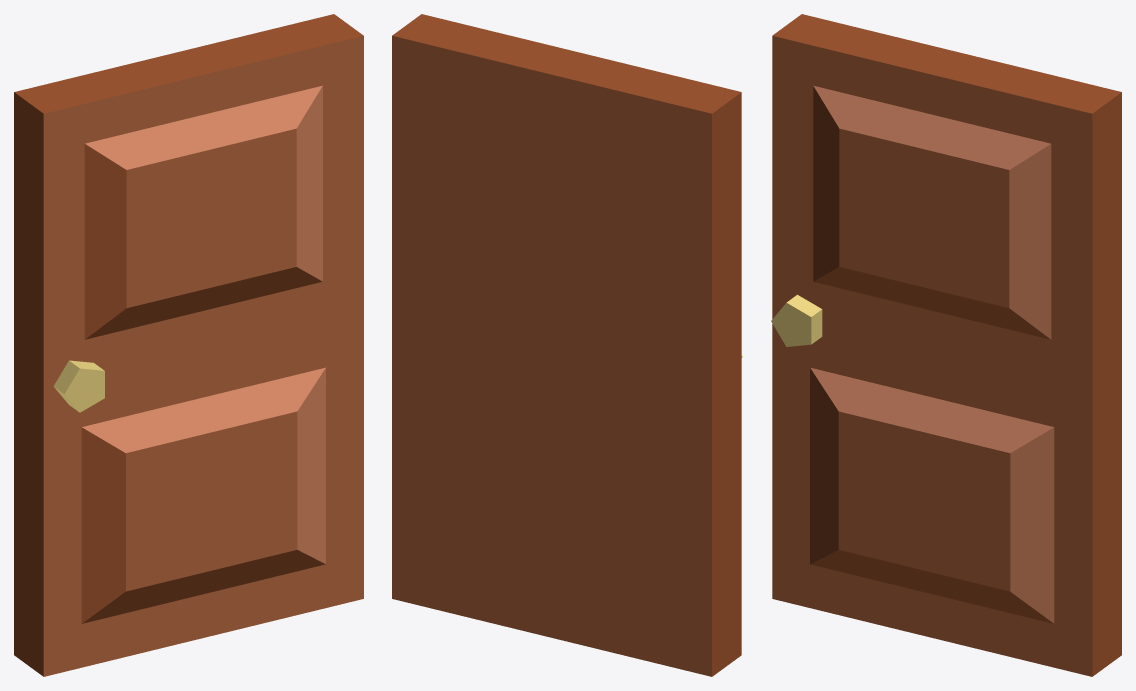
The model's file is door1.fbx.
3 renders of one model, left to right at view 1: azimuth 30°, elevation 25°; view 2: azimuth 150°, elevation 25°; view 3: azimuth 330°, elevation 25°, orthographic.
Visible parts, largest first — view 1: door1; view 2: door1; view 3: door1.
Boxes of the visible parts, left/top/right/bottom form: door1: left=14, top=14, right=363, bottom=676; door1: left=392, top=14, right=742, bottom=676; door1: left=771, top=14, right=1121, bottom=676.
Bounding box in the file's own units: 179 × 301 × 39.4.
